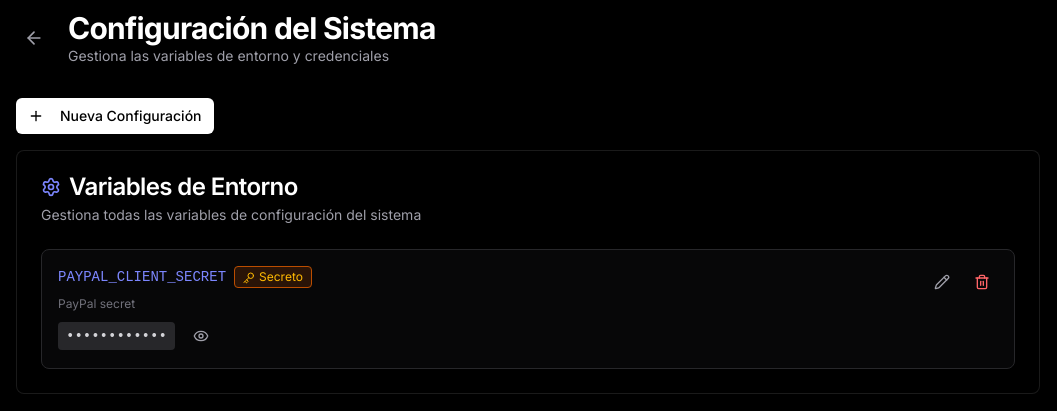
Test: ConfigSistemaPage › toggles secret value visibility
Expected: the text "••••••••••••" is shown, [58,322,175,350]
What coordinates should you click on to do the following:
click the button without text below "PayPal secret"
I would click on:
 (201, 336)
Its box is [183,320,219,352].
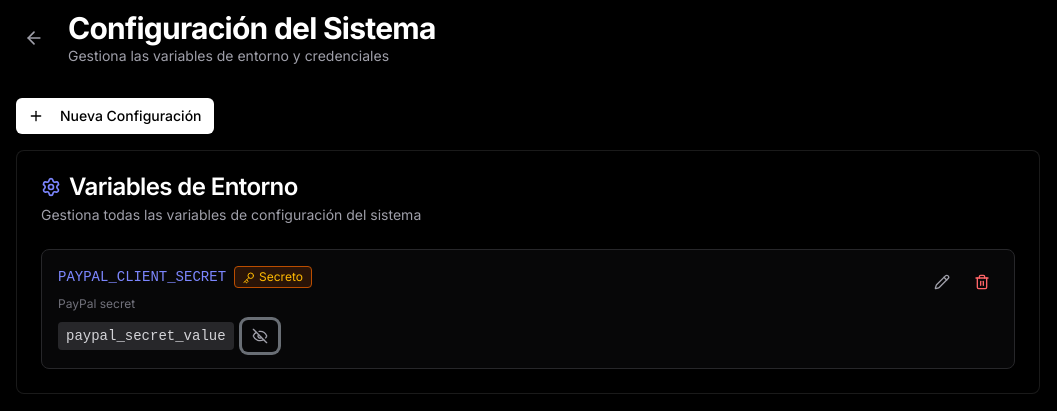
Now the text "paypal_secret_value" is shown, box [58,322,234,350]
